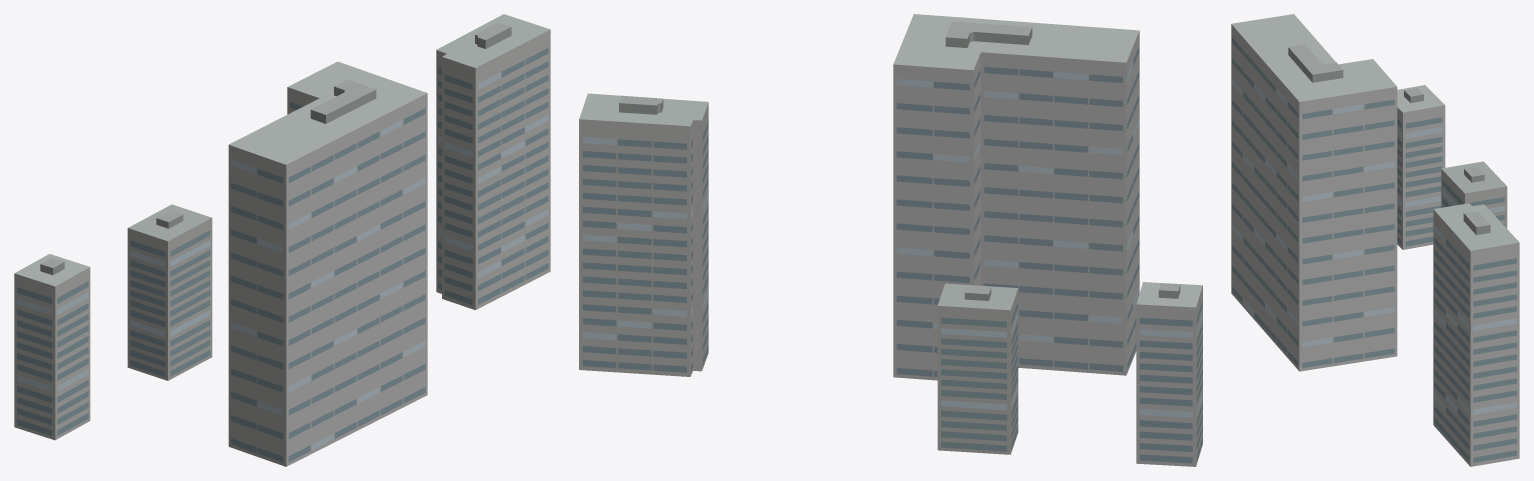
The model's file is apt-a13592002.glb.
3 views of the same model, side by side, from view 1: azimuth 30°, elevation 25°; view 2: azimuth 150°, elevation 25°; view 3: azimuth 270°, elevation 25° (orthographic). The views are drawn at different scales.
Visible parts, largest first — view 1: apt-a13592002; view 2: apt-a13592002; view 3: apt-a13592002.
Boxes of the visible parts, x1,y1,x2,y2 form: apt-a13592002: (14, 14, 550, 466); apt-a13592002: (579, 14, 1202, 466); apt-a13592002: (1231, 14, 1519, 466).
Size of the model in its own units: 157 by 83 by 78.18.
